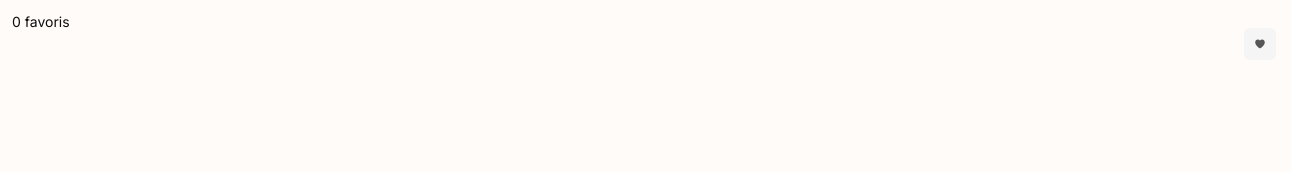
Test: Favorites › shares the favorites with the other components
Expected: the text "0 favoris" is shown, left=12, top=13, right=70, bottom=30
Step 1. Click the button named "Ajouter Appartement cosy aux favoris" → x=1260, y=44, box left=1244, top=28, right=1276, bottom=60
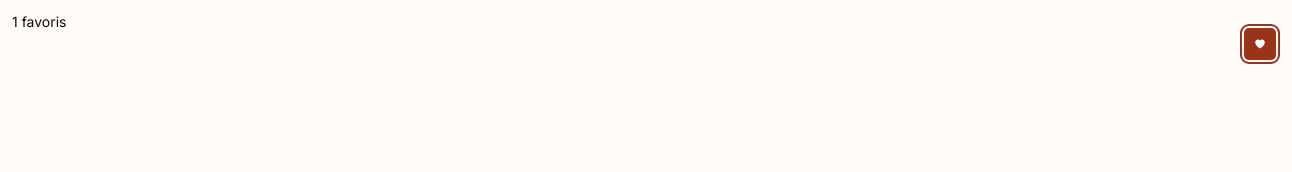
Result: the text "1 favoris" is shown at left=12, top=13, right=66, bottom=30
